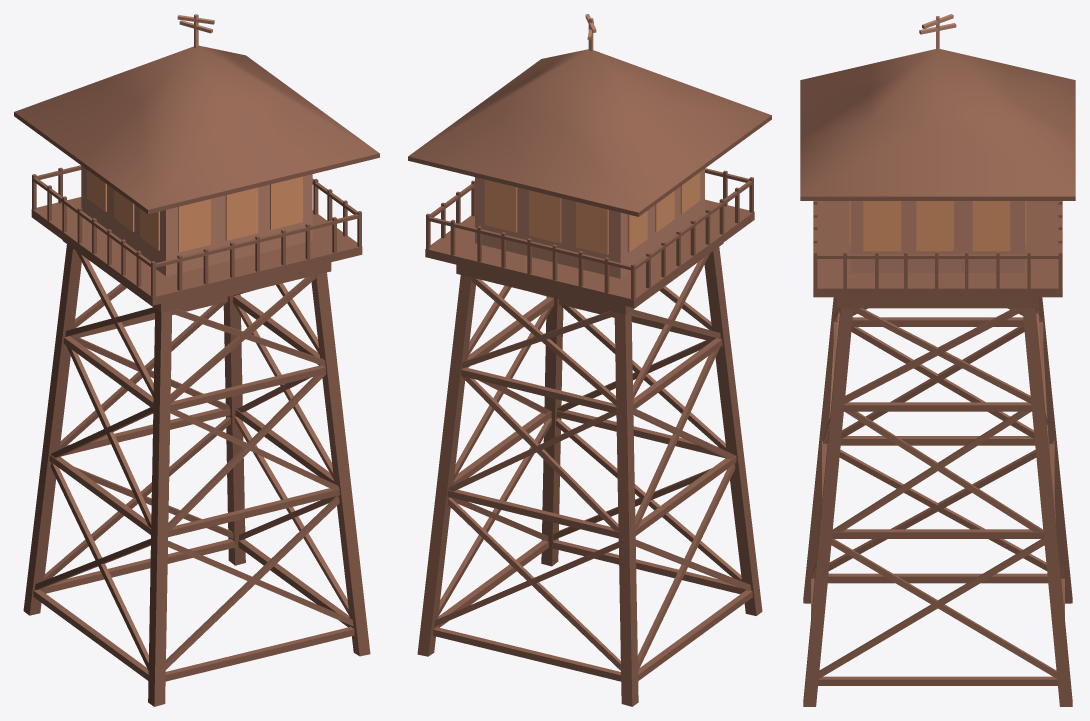
File: watchtower_forestandcanyonscene.fbx
3 renders of one model, left to right at view 1: azimuth 30°, elevation 25°; view 2: azimuth 150°, elevation 25°; view 3: azimuth 270°, elevation 25°, orthographic. The views are drawn at different scales.
Visible parts, largest first — view 1: crossdetail, Roof, Base, Leg3, House, Leg, Leg2, Leg1, window (×2), window1 (×2), window2 (×2), Bottom (+1 smaller); view 2: crossdetail, Roof, Base, Leg2, House, Leg1, Leg3, Leg, window2 (×2), window1 (×2), window (×2), Bottom (+1 smaller); view 3: Roof, crossdetail, Base, House, Leg1, Leg, Bottom, Leg3, Leg2, window1, window2, window (+1 smaller).
Boxes of the visible parts, x1,y1,x2,y2 form: crossdetail: [33, 251, 354, 681]; Roof: [14, 45, 379, 214]; Base: [31, 197, 362, 305]; Leg3: [148, 309, 172, 706]; House: [81, 166, 312, 276]; Leg: [311, 272, 370, 656]; Leg2: [23, 244, 81, 615]; Leg1: [223, 294, 245, 565]; window (×2): [114, 187, 258, 240]; window1 (×2): [140, 176, 302, 250]; window2 (×2): [87, 170, 210, 252]; Bottom: [62, 240, 331, 312]; crossdetail: [433, 254, 752, 681]; Roof: [408, 49, 771, 216]; Base: [425, 199, 754, 307]; Leg2: [614, 311, 638, 706]; House: [475, 169, 704, 278]; Leg1: [417, 275, 475, 656]; Leg3: [704, 247, 762, 615]; Leg: [541, 296, 563, 566]; window2 (×2): [576, 202, 647, 254]; window1 (×2): [484, 172, 700, 232]; window (×2): [529, 190, 674, 243]; Bottom: [456, 243, 723, 314]; Roof: [800, 49, 1075, 200]; crossdetail: [811, 308, 1064, 685]; Base: [813, 201, 1062, 297]; House: [851, 201, 1024, 272]; Leg1: [1022, 308, 1072, 706]; Leg: [803, 308, 853, 706]; Bottom: [837, 297, 1038, 308]; Leg3: [803, 297, 837, 603]; Leg2: [1039, 297, 1072, 603]; window1: [863, 201, 901, 251]; window2: [972, 201, 1010, 251]; window: [916, 201, 953, 251].
Size of the model in its own units: 7.84 by 19.98 by 7.84.
